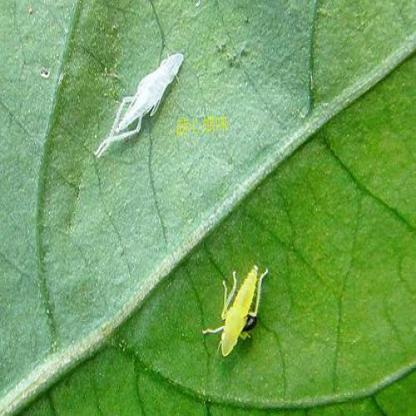green-leafhopper: (203, 264, 274, 358)
